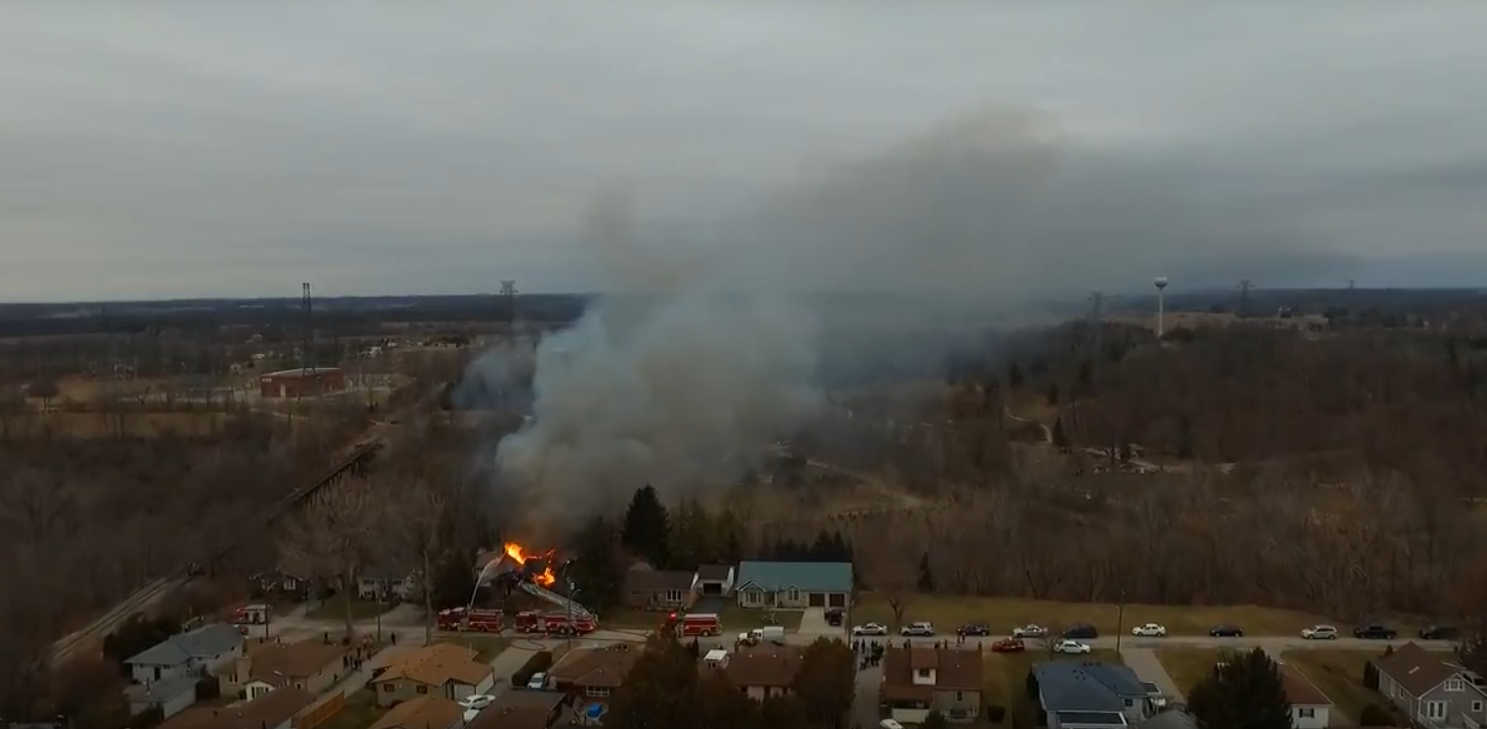fire: (485, 525, 567, 592)
